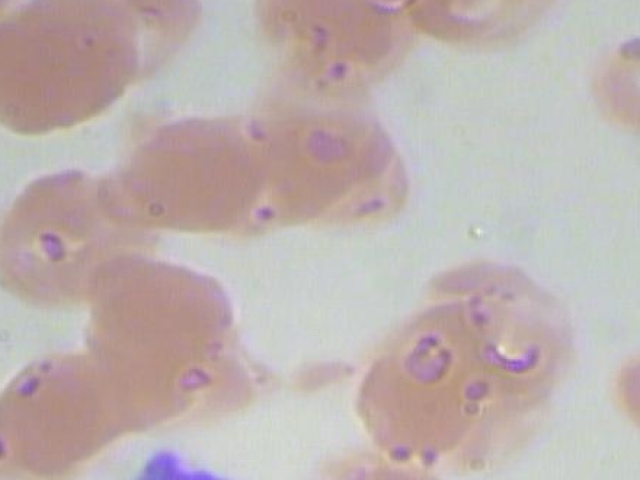RBC: (0, 156, 155, 315), (84, 247, 239, 375), (115, 109, 270, 237), (0, 347, 131, 480), (0, 5, 134, 134), (560, 16, 640, 155), (592, 312, 640, 458), (288, 455, 475, 480)
WBC: (103, 446, 299, 480)
